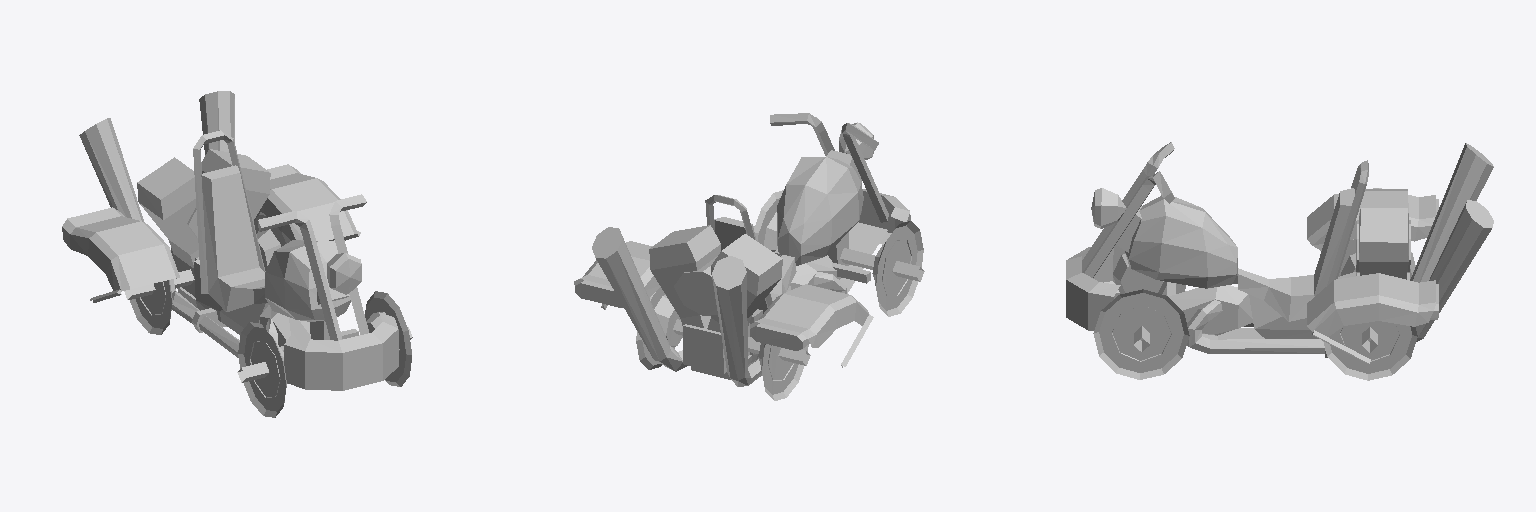
File: KartCortex.obj
3 views of the same model, side by side, from view 1: azimuth 30°, elevation 25°; view 2: azimuth 150°, elevation 25°; view 3: azimuth 270°, elevation 25° (orthographic).
Visible parts, largest first — view 1: Kart.005; view 2: Kart.005; view 3: Kart.005.
Part boxes in pixels (x1,y1,x2,y2): Kart.005: (62,91,412,417); Kart.005: (574,113,924,400); Kart.005: (1066,142,1493,380).
Bounding box in the file's own units: 17.74 × 13.05 × 26.85.